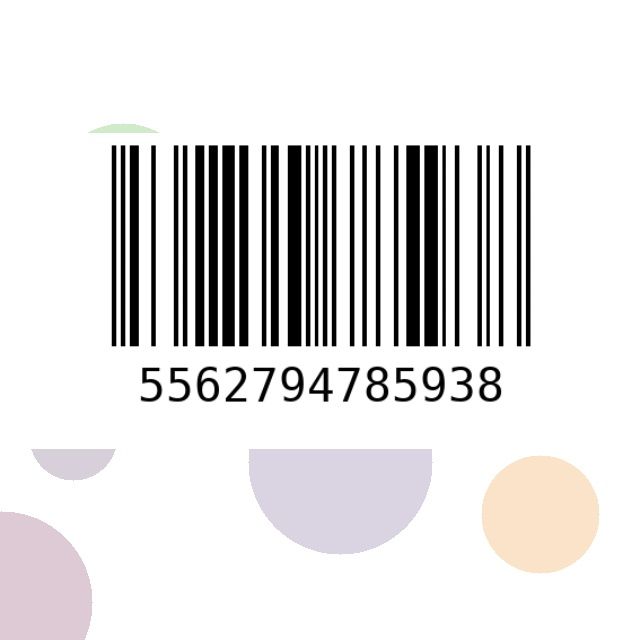barcode: (26, 133, 616, 449)
